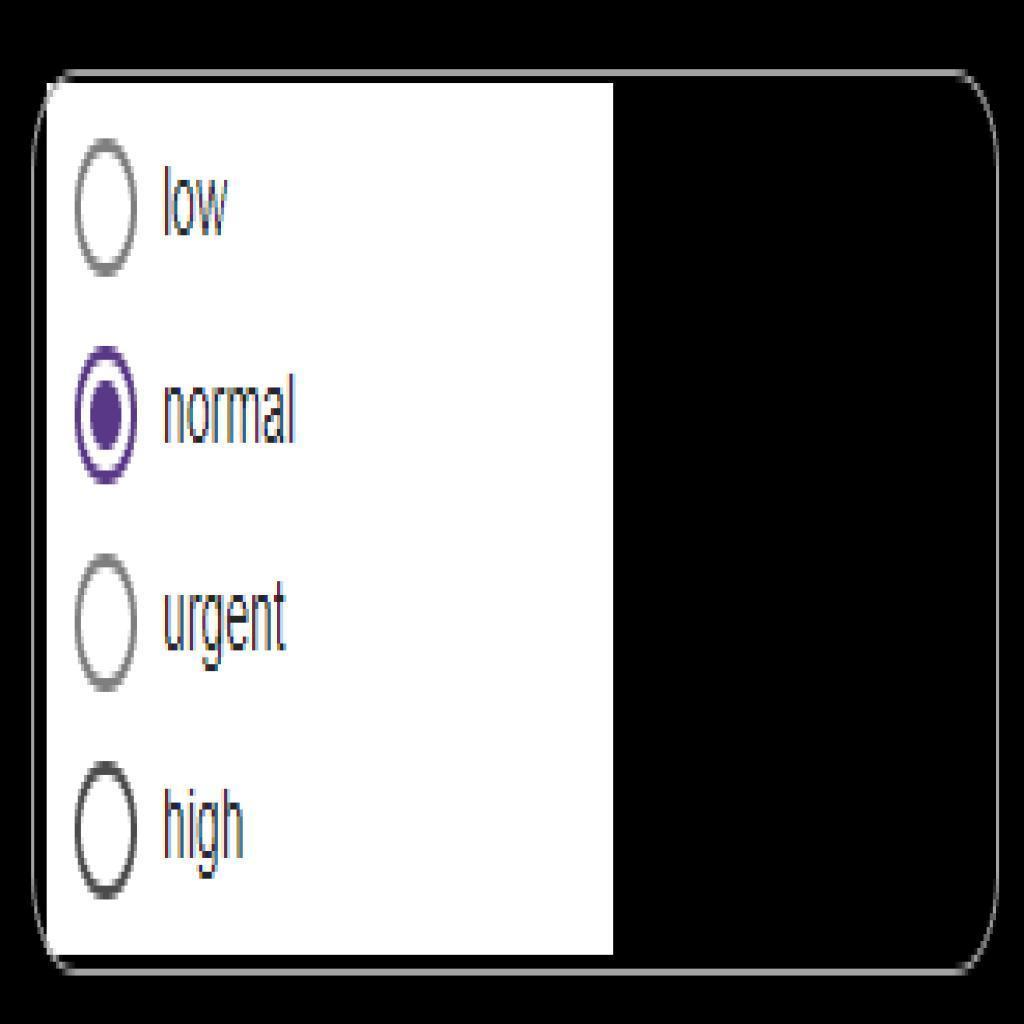radio: (71, 134, 143, 280), (73, 549, 142, 696), (73, 759, 144, 901), (76, 342, 143, 487)
